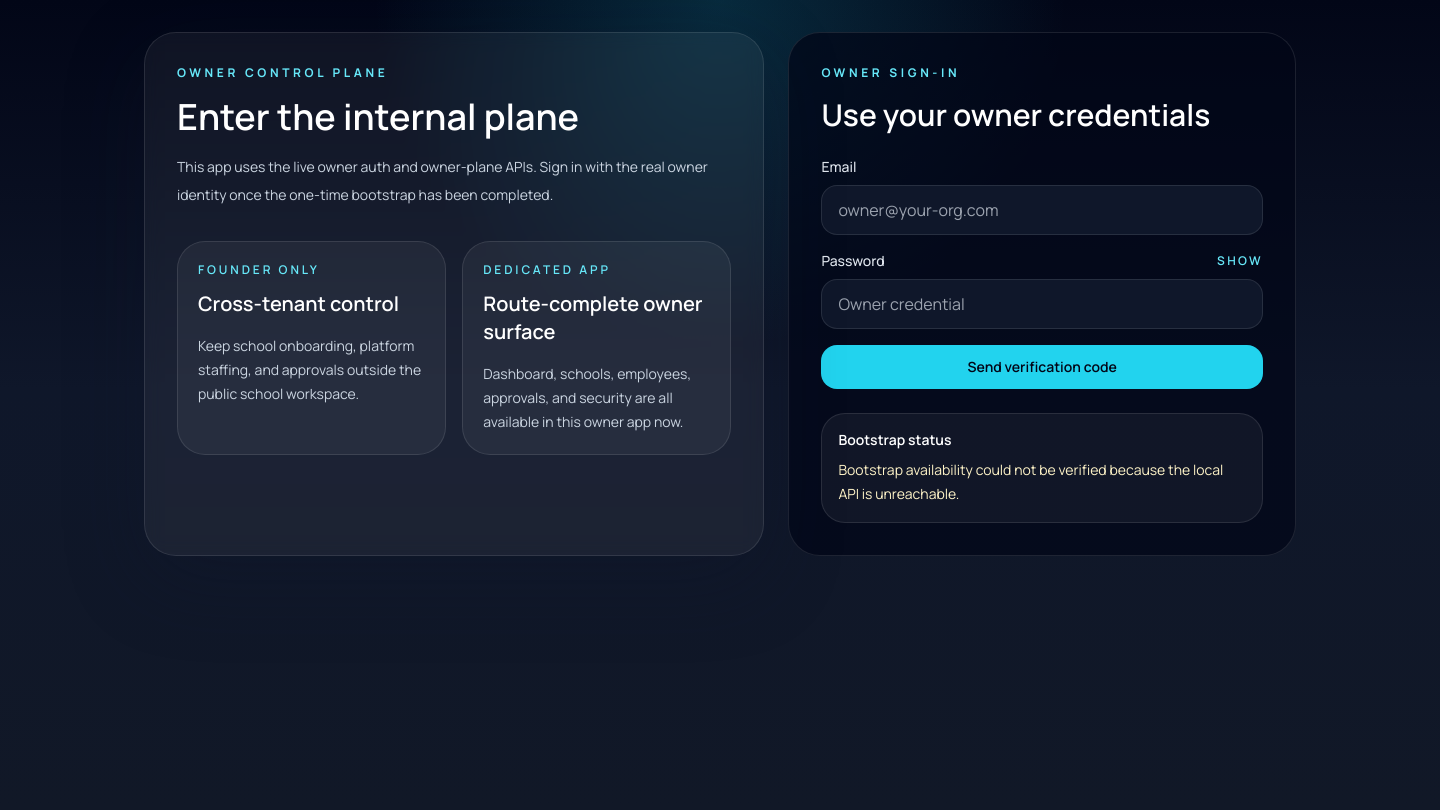
Test: owner app authenticated mode › shows an auth error and does not persist login info when the API is unreachable
In the field labelled "Email": (1042, 210) x1=821 y1=185 x2=1263 y2=235, type "owner.local@shardaos.internal"
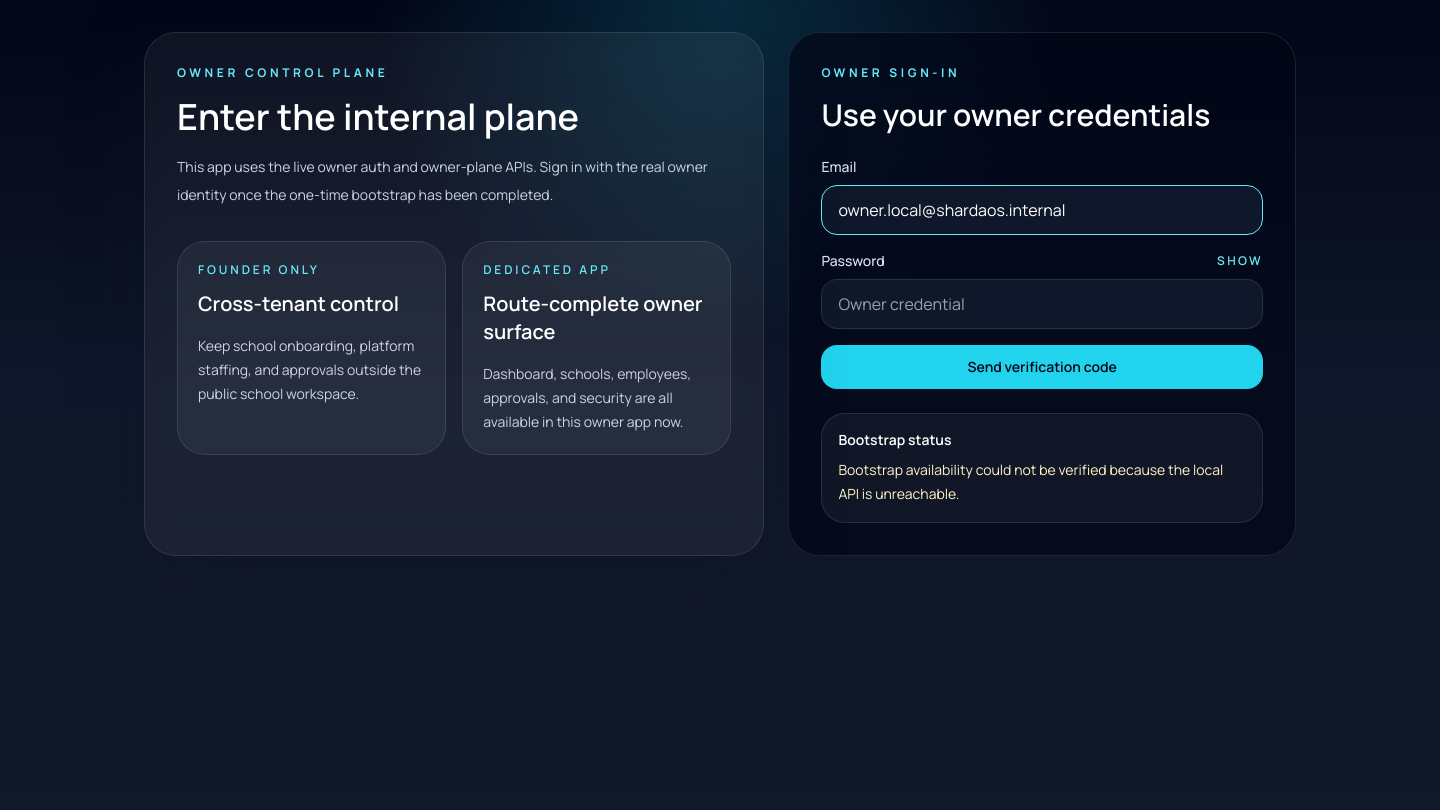
In the password field labelled "Password": (1042, 304) x1=821 y1=279 x2=1263 y2=329, type "any-password"
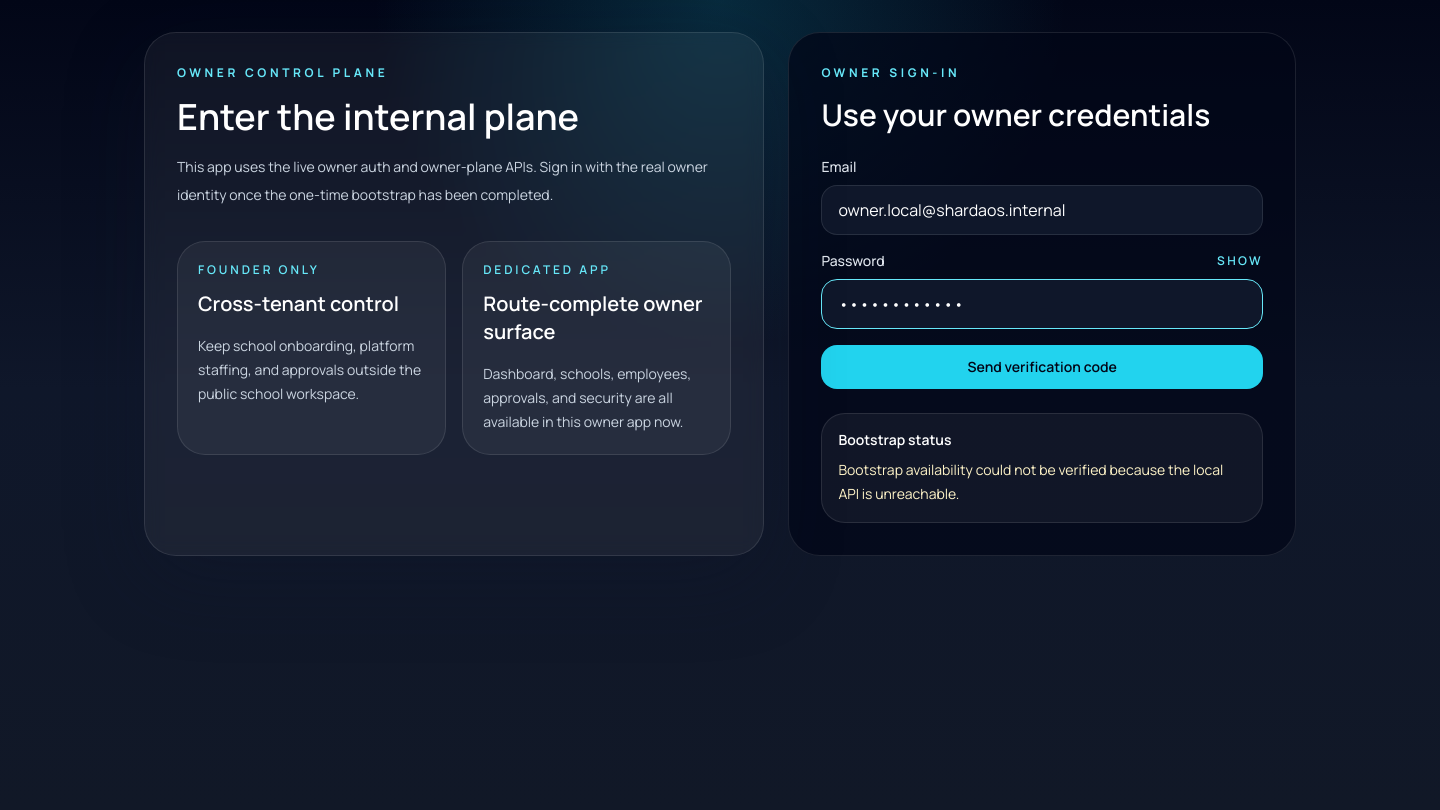
Click the button "Send verification code": (1042, 367) x1=821 y1=345 x2=1263 y2=389
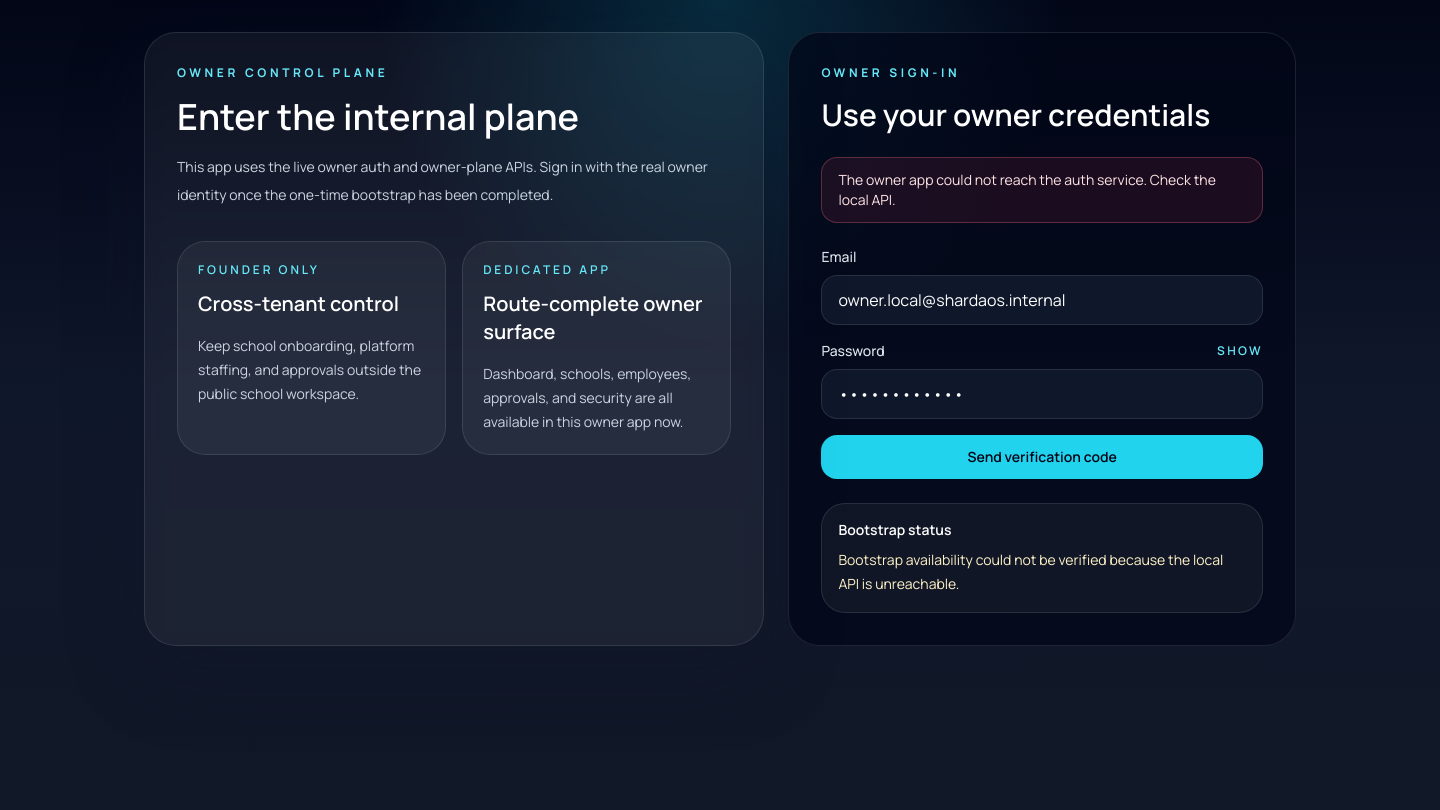
Expected: the text "could not reach the auth service" is shown, x1=838 y1=170 x2=1216 y2=209
